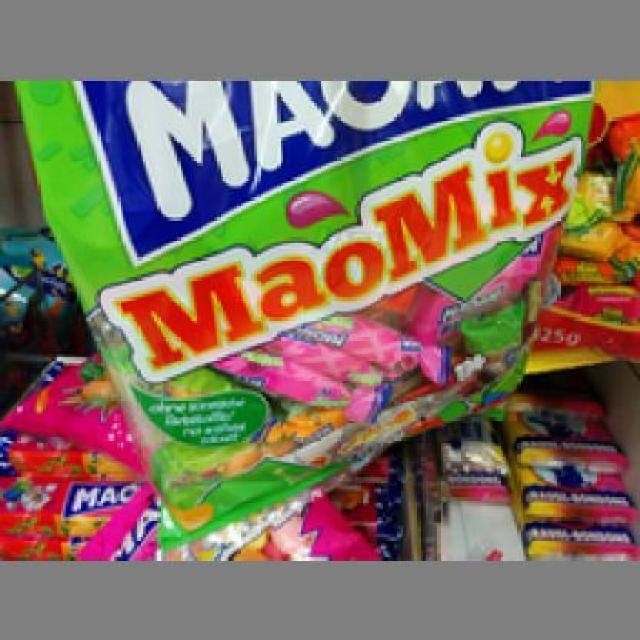Candy: (8, 77, 594, 537)
